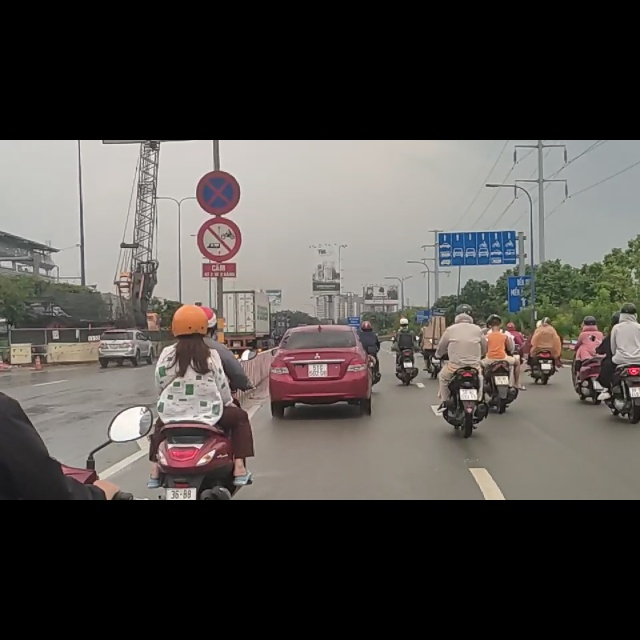bien_chi_dan: (197, 137, 241, 215), (197, 55, 240, 132)
